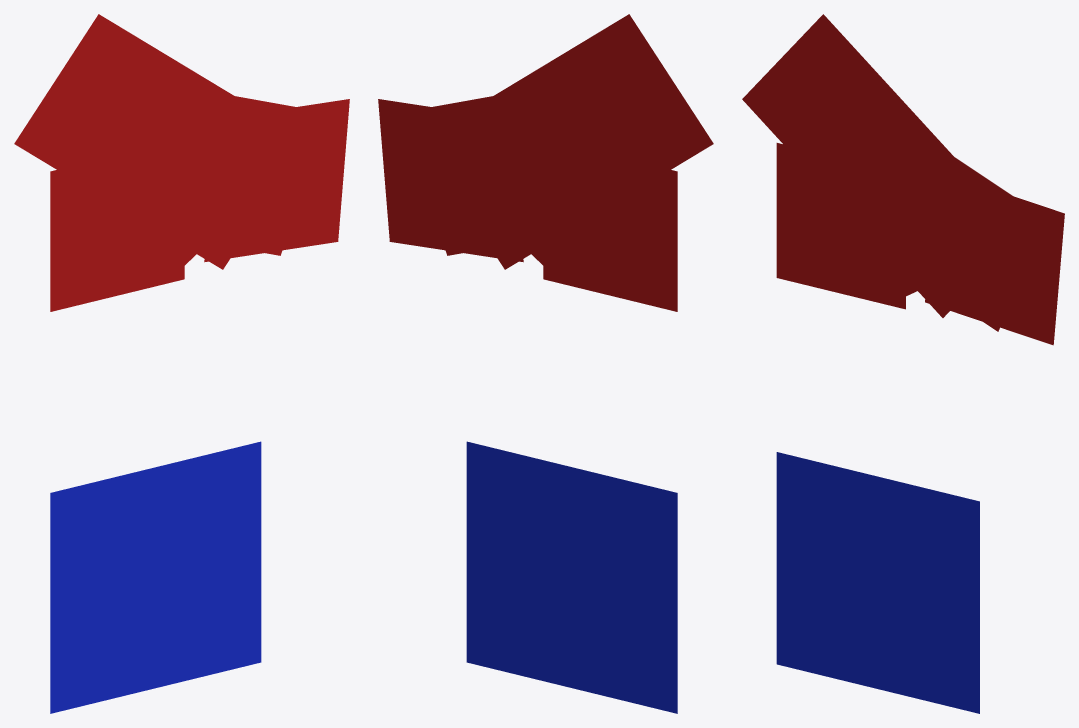
Rendered from instances-yup.dae.
3 renders of one model, left to right at view 1: azimuth 30°, elevation 25°; view 2: azimuth 150°, elevation 25°; view 3: azimuth 330°, elevation 25°, orthographic. The views are drawn at different scales.
Parts seen in each view (by area): view 1: Silla (×6), floor; view 2: Silla (×6), floor; view 3: Silla (×6), floor.
Boxes of the visible parts, <box> form: Silla (×6): <box>14,14,349,311</box>; floor: <box>50,441,261,713</box>; Silla (×6): <box>378,14,713,311</box>; floor: <box>466,441,677,713</box>; Silla (×6): <box>742,14,1064,345</box>; floor: <box>776,452,979,713</box>.
Size of the model in its own units: 17.49 by 34.25 by 0.
